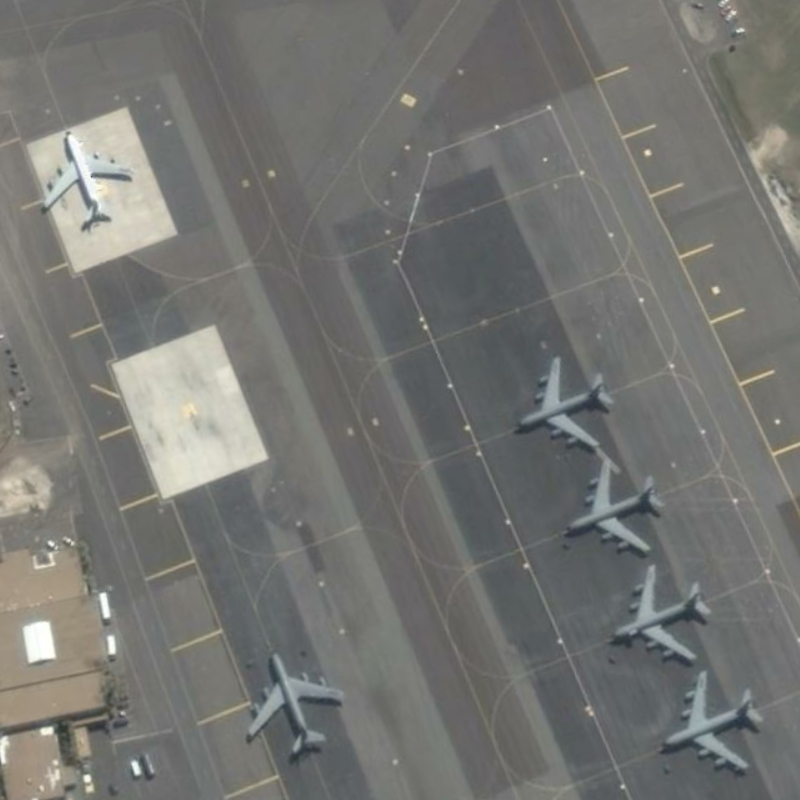A11: (36, 127, 139, 232)
A14: (654, 666, 767, 774), (244, 647, 349, 761), (605, 561, 715, 665), (560, 453, 668, 557), (514, 351, 618, 454)
